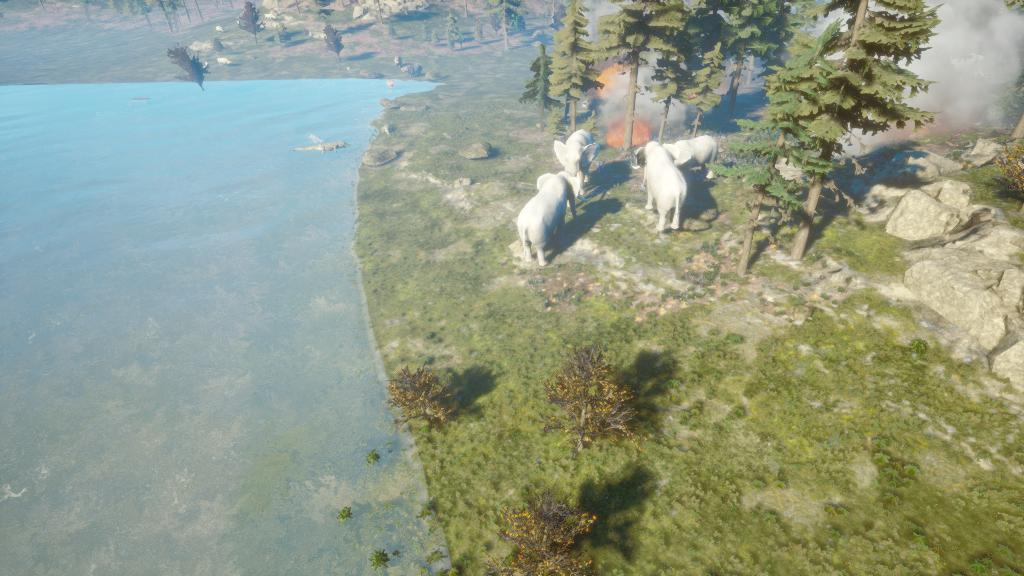crocodile: (285, 133, 354, 160), (376, 121, 398, 144)
elephant: (511, 168, 586, 273), (630, 141, 691, 236), (548, 126, 604, 200)
hippopotamus: (398, 60, 431, 82), (375, 76, 404, 91), (389, 54, 406, 70)
rhinoceros: (214, 53, 237, 72), (213, 24, 229, 35)
